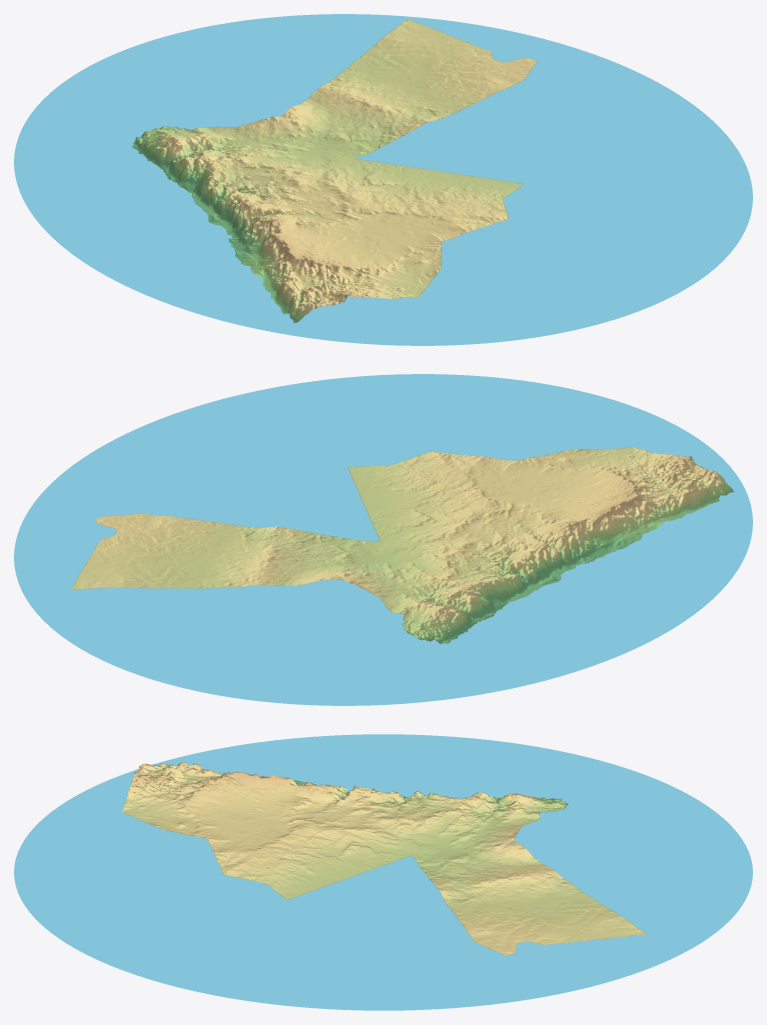
File: JOR-terrain.glb
3 renders of one model, top to bottom at view 1: azimuth 30°, elevation 25°; view 2: azimuth 150°, elevation 25°; view 3: azimuth 270°, elevation 25°, orthographic. The views are drawn at different scales.
Parts seen in each view (by area): view 1: Relevo com hidrografia; view 2: Relevo com hidrografia; view 3: Relevo com hidrografia.
Boxes of the visible parts, x1,y1,x2,y2 form: Relevo com hidrografia: (14,14,752,345); Relevo com hidrografia: (14,374,752,705); Relevo com hidrografia: (14,734,752,1010).
Size of the model in its own units: 2 by 0.0812 by 2.26.
2 materials, 1 textured.
